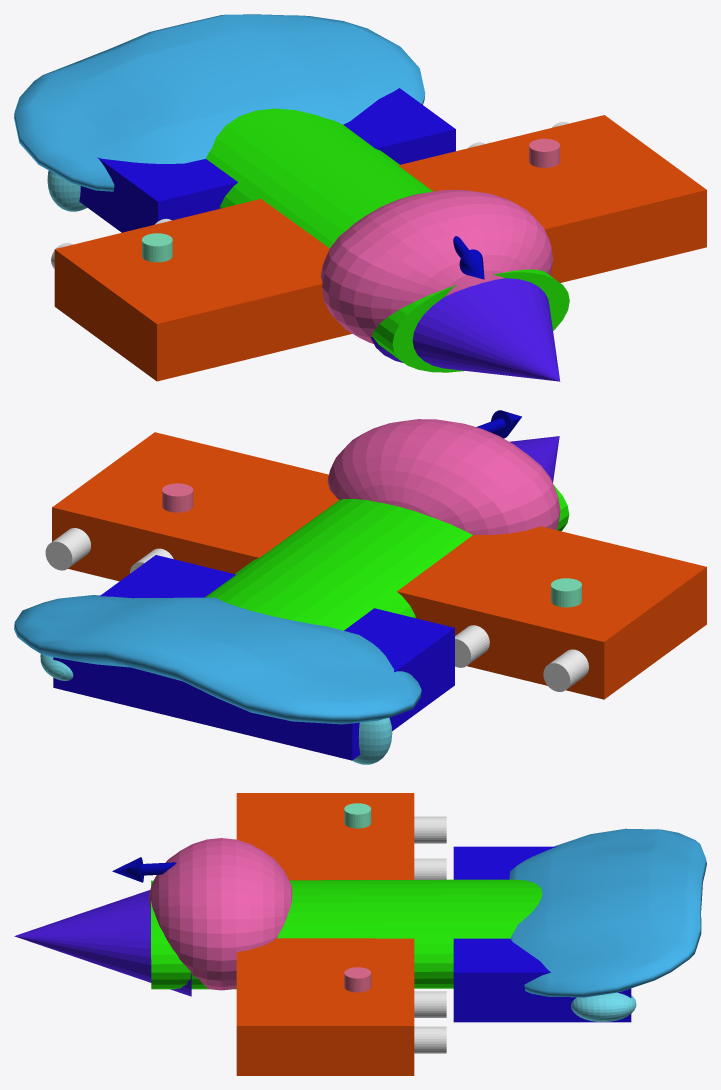
The model's file is rocket2.fbx.
3 renders of one model, top to bottom at view 1: azimuth 30°, elevation 25°; view 2: azimuth 150°, elevation 25°; view 3: azimuth 270°, elevation 25°, orthographic. The views are drawn at different scales.
Visible parts, largest first — view 1: Cube, Mball, Cylinder, Sphere.002, Cube.001, Cone, Sphere.001, Cylinder.005, Cylinder.006, arrow_z; view 2: Cube, Mball, Cylinder, Cube.001, Sphere.002, Cylinder.001, Sphere.001, Cylinder.004, Cylinder.002, Cone, Cylinder.006, Cylinder.005 (+1 smaller); view 3: Cube, Mball, Cylinder, Sphere.002, Cube.001, Cone, Sphere, Cylinder.001, Cylinder.004, Cylinder.003, arrow_z, Cylinder.002 (+2 smaller).
Part boxes in pixels (x1,y1,x2,y2): Cube: [54, 115, 706, 381]; Mball: [14, 14, 425, 191]; Cylinder: [206, 108, 569, 372]; Sphere.002: [321, 189, 552, 343]; Cube.001: [79, 88, 455, 232]; Cone: [370, 278, 560, 381]; Sphere.001: [47, 170, 87, 211]; Cylinder.005: [142, 233, 172, 262]; Cylinder.006: [529, 138, 559, 167]; arrow_z: [453, 236, 484, 279]; Cube: [52, 432, 706, 699]; Mball: [14, 595, 421, 724]; Cylinder: [205, 485, 569, 630]; Cube.001: [53, 555, 454, 760]; Sphere.002: [327, 419, 560, 534]; Cylinder.001: [543, 649, 588, 691]; Sphere.001: [352, 717, 392, 764]; Cylinder.004: [45, 528, 90, 570]; Cylinder.002: [455, 625, 489, 667]; Cone: [509, 436, 559, 482]; Cylinder.006: [162, 483, 193, 512]; Cylinder.005: [551, 578, 581, 607]; Cube: [236, 793, 414, 1075]; Mball: [509, 828, 706, 997]; Cylinder: [151, 879, 542, 989]; Sphere.002: [148, 838, 292, 990]; Cube.001: [453, 846, 631, 1022]; Cone: [14, 890, 191, 996]; Sphere: [571, 992, 636, 1022]; Cylinder.001: [414, 816, 446, 843]; Cylinder.004: [414, 1026, 446, 1053]; Cylinder.003: [414, 991, 446, 1017]; arrow_z: [112, 857, 176, 882]; Cylinder.002: [414, 858, 446, 879].
Bounding box in the file's own units: 620 × 161 × 780.
